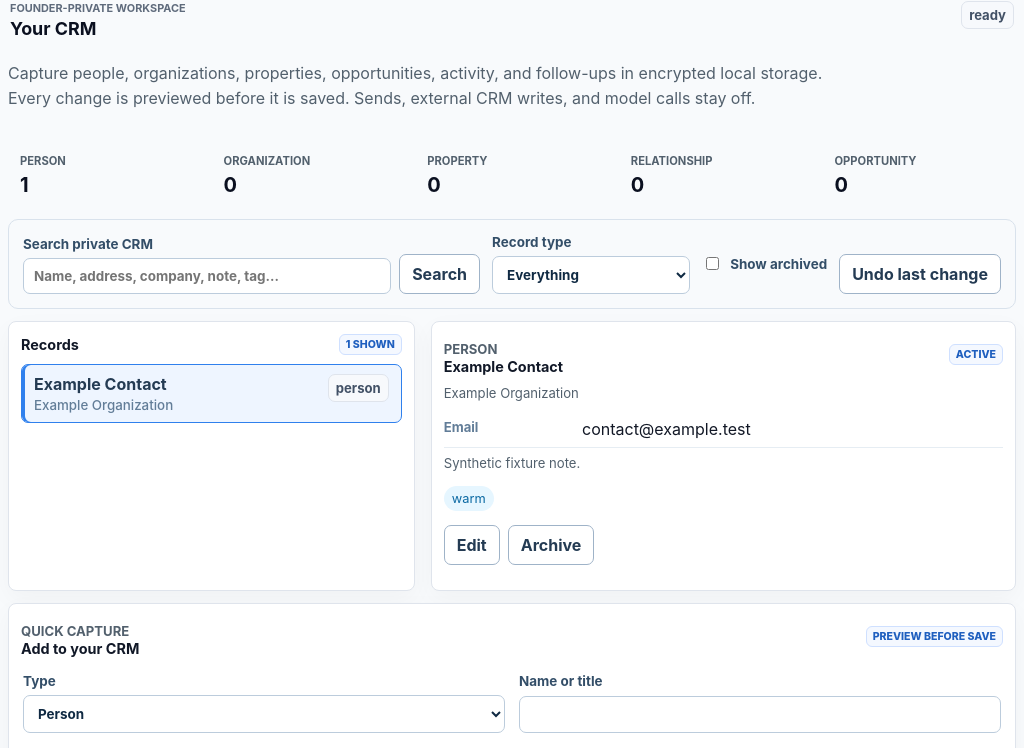
it: CrmAdoptionWorkspace › previews and explicitly confirms a new local record
Type "New Example" into the field labelled "Name or title" at (760, 715), box [519, 696, 1001, 733]
(page scrolled)
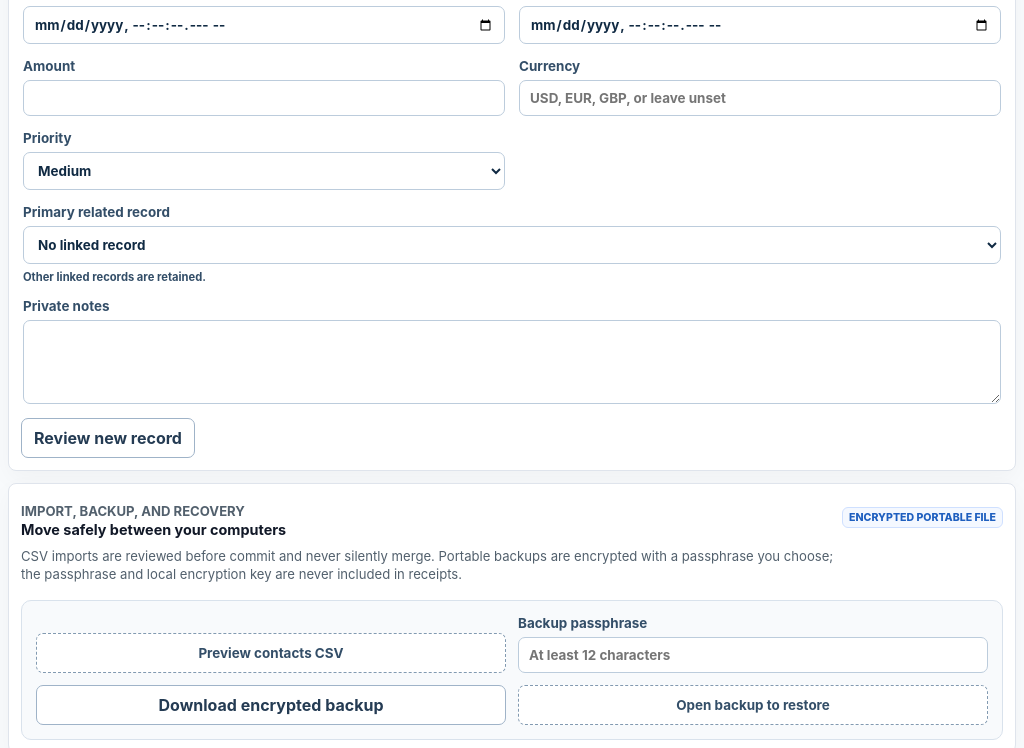
Click the button "Review new record" at (108, 438), box [21, 418, 195, 458]
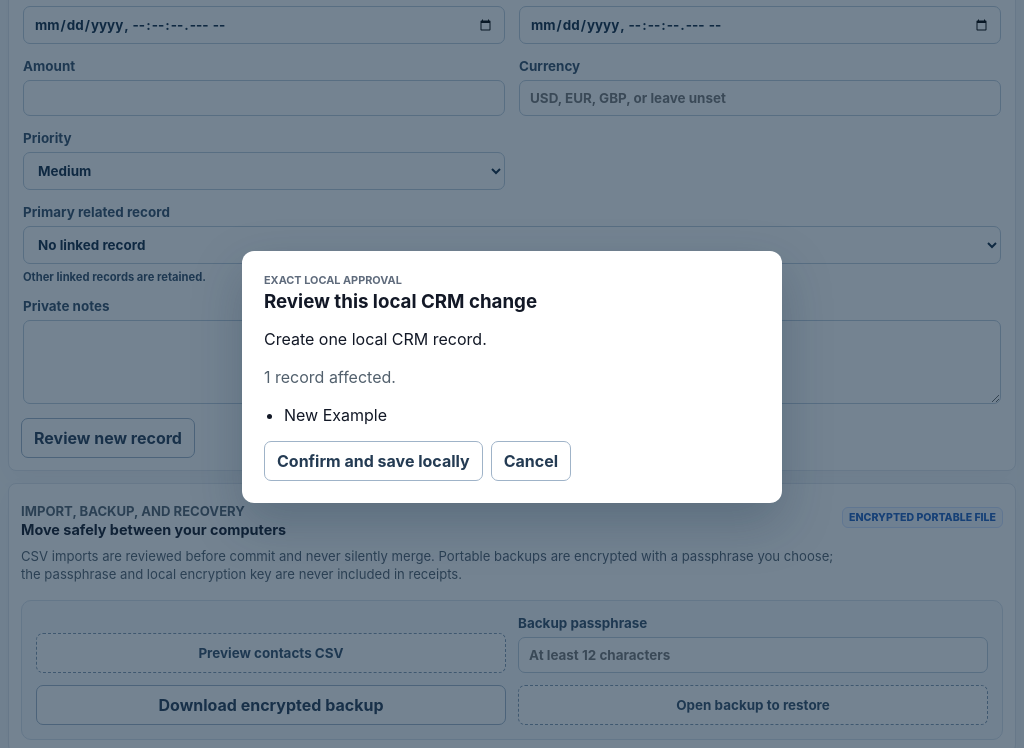
Check: the dialog "Review this local CRM change" is shown, box [242, 251, 782, 503]
Check: the list item "New Example" is shown, box [284, 405, 387, 425]
Click the button "Confirm and save locally" at (373, 461), box [264, 441, 483, 481]
(page scrolled)
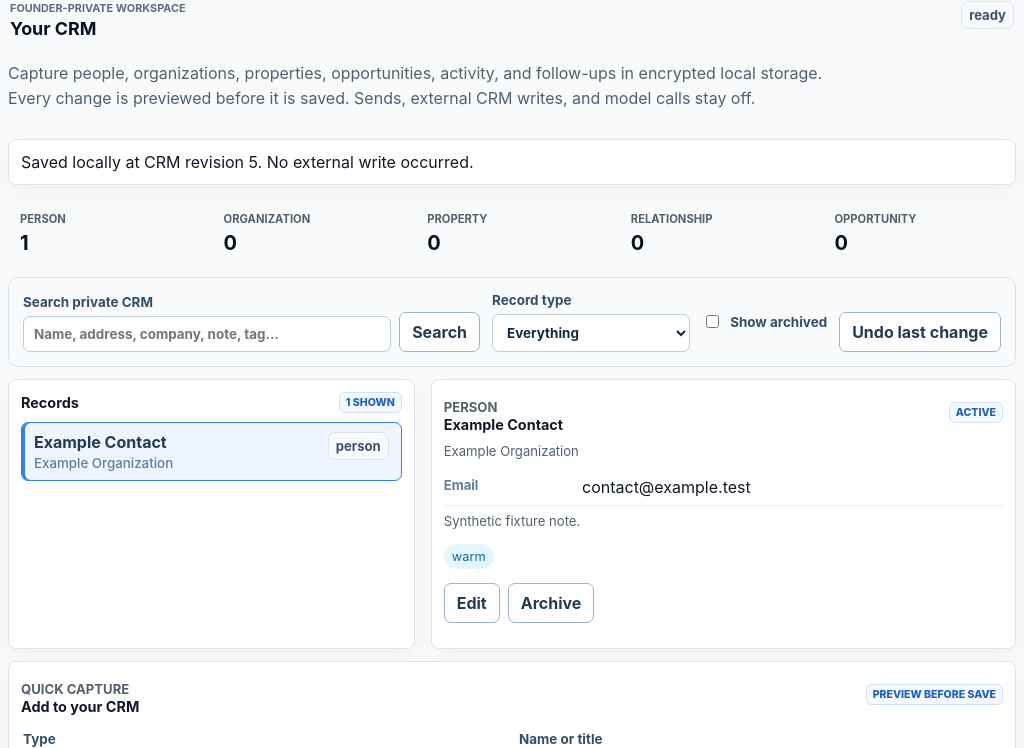
Check: the text "Saved locally at CRM revision 5. No external write occurred." is shown, box [8, 139, 1016, 185]
